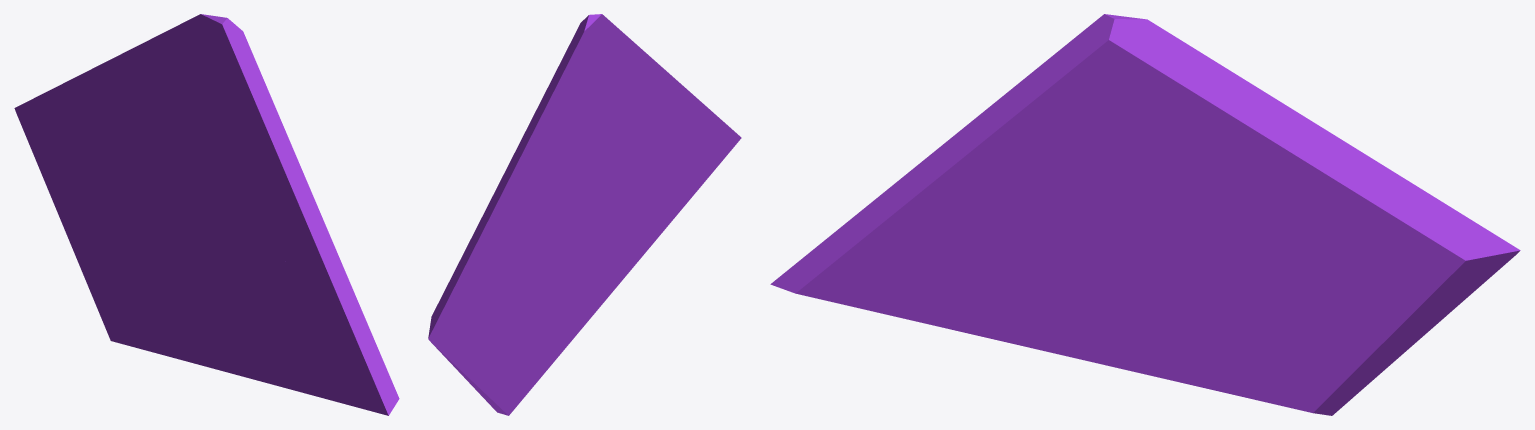
The model's file is Window_42_7_chunks.fbx.
The picture shows the model from 3 angles, left to right: view 1: azimuth 30°, elevation 25°; view 2: azimuth 150°, elevation 25°; view 3: azimuth 270°, elevation 25°; orthographic projection. The views are drawn at different scales.
Parts seen in each view (by area): view 1: Window_42_7_0, Window_42_7_2, Window_42_7_5, Window_42_7_4, Window_42_7_3, Window_42_7_6; view 2: Window_42_7_2, Window_42_7_0, Window_42_7_5, Window_42_7_4, Window_42_7_3, Window_42_7_6; view 3: Window_42_7_0, Window_42_7_2, Window_42_7_5, Window_42_7_4, Window_42_7_1, Window_42_7_6.
Part boxes in pixels (bbox=[...]): Window_42_7_0: bbox=[128, 14, 353, 293]; Window_42_7_2: bbox=[14, 51, 168, 343]; Window_42_7_5: bbox=[241, 254, 399, 415]; Window_42_7_4: bbox=[121, 258, 248, 377]; Window_42_7_3: bbox=[147, 197, 242, 333]; Window_42_7_6: bbox=[165, 186, 273, 289]; Window_42_7_2: bbox=[428, 152, 556, 415]; Window_42_7_0: bbox=[511, 14, 697, 214]; Window_42_7_5: bbox=[618, 99, 741, 277]; Window_42_7_4: bbox=[518, 250, 624, 404]; Window_42_7_3: bbox=[539, 211, 619, 301]; Window_42_7_6: bbox=[554, 142, 645, 228]; Window_42_7_0: bbox=[874, 14, 1293, 228]; Window_42_7_2: bbox=[1220, 110, 1520, 415]; Window_42_7_5: bbox=[770, 200, 1066, 350]; Window_42_7_4: bbox=[1042, 273, 1289, 407]; Window_42_7_1: bbox=[1087, 216, 1244, 313]; Window_42_7_6: bbox=[998, 225, 1168, 289].
Size of the model in its own units: 27.2 by 443 by 754.
